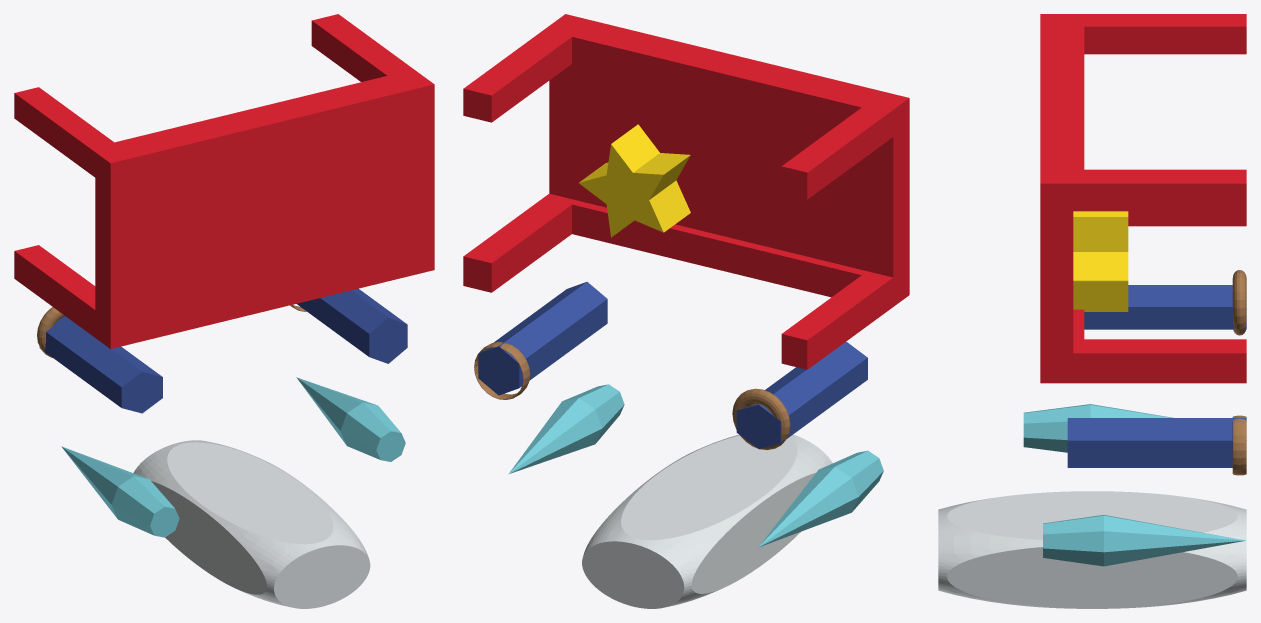
The model's file is tinker.obj.
The picture shows the model from 3 angles, left to right: view 1: azimuth 30°, elevation 25°; view 2: azimuth 150°, elevation 25°; view 3: azimuth 270°, elevation 25°; orthographic projection. The views are drawn at different scales.
Visible parts, largest first — view 1: group_0_15277357, group_0_14541540, group_0_3888547, group_0_7720667, group_0_11107152; view 2: group_0_15277357, group_0_14541540, group_0_3888547, group_0_7720667, group_0_16768282, group_0_11107152; view 3: group_0_15277357, group_0_14541540, group_0_3888547, group_0_7720667, group_0_16768282, group_0_11107152.
Part boxes in pixels (x1=…): group_0_15277357: x1=14, y1=14, x2=434, y2=348; group_0_14541540: x1=133, y1=440, x2=370, y2=608; group_0_3888547: x1=39, y1=288, x2=407, y2=413; group_0_7720667: x1=61, y1=377, x2=405, y2=537; group_0_11107152: x1=37, y1=304, x2=306, y2=357; group_0_15277357: x1=463, y1=14, x2=909, y2=369; group_0_14541540: x1=582, y1=434, x2=832, y2=608; group_0_3888547: x1=478, y1=282, x2=867, y2=448; group_0_7720667: x1=508, y1=384, x2=883, y2=547; group_0_16768282: x1=579, y1=124, x2=690, y2=237; group_0_11107152: x1=474, y1=342, x2=790, y2=450; group_0_15277357: x1=1040, y1=14, x2=1246, y2=383; group_0_14541540: x1=938, y1=491, x2=1246, y2=608; group_0_3888547: x1=1067, y1=285, x2=1246, y2=467; group_0_7720667: x1=1023, y1=404, x2=1245, y2=566; group_0_16768282: x1=1073, y1=211, x2=1128, y2=311; group_0_11107152: x1=1232, y1=270, x2=1246, y2=475.
Bounding box in the file's own units: 146 × 194 × 112.
